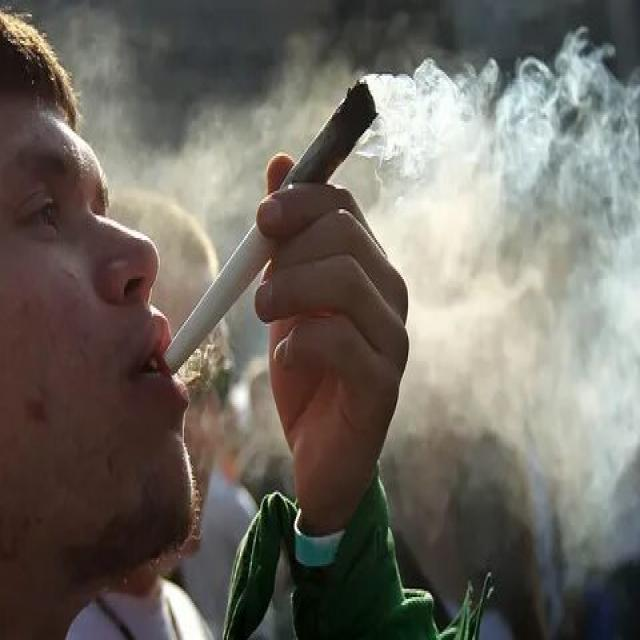cigarette: (164, 82, 388, 377)
